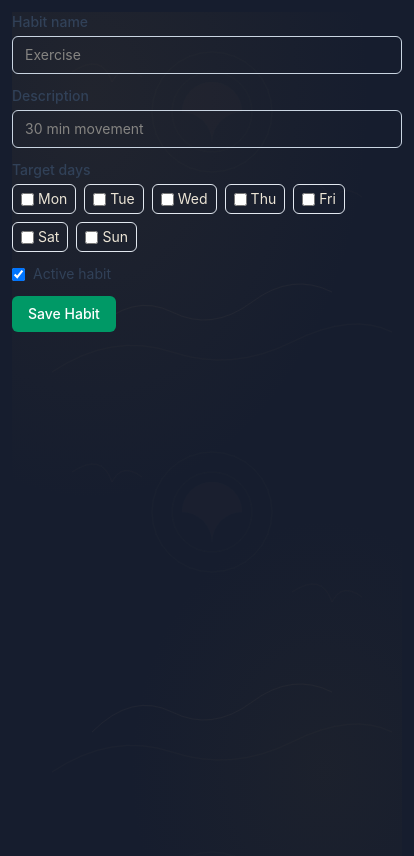
it: HabitForm › validates required name
Click the button "Save Habit" at [64, 314], box left=12, top=296, right=116, bottom=332
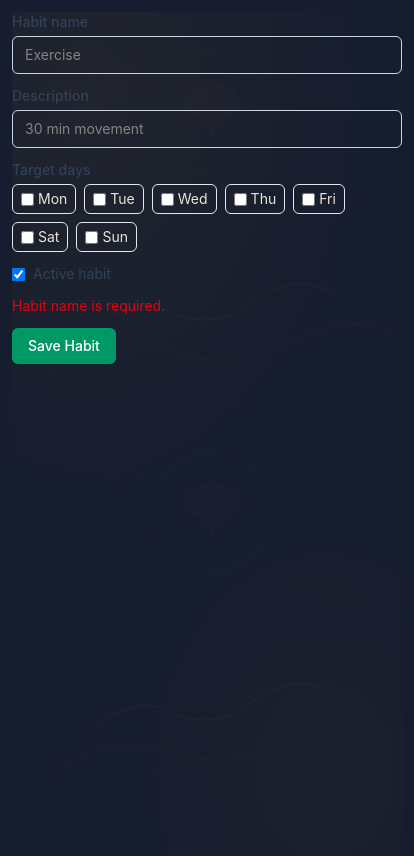
Now the text "Habit name is required." is shown, box left=12, top=297, right=165, bottom=314
